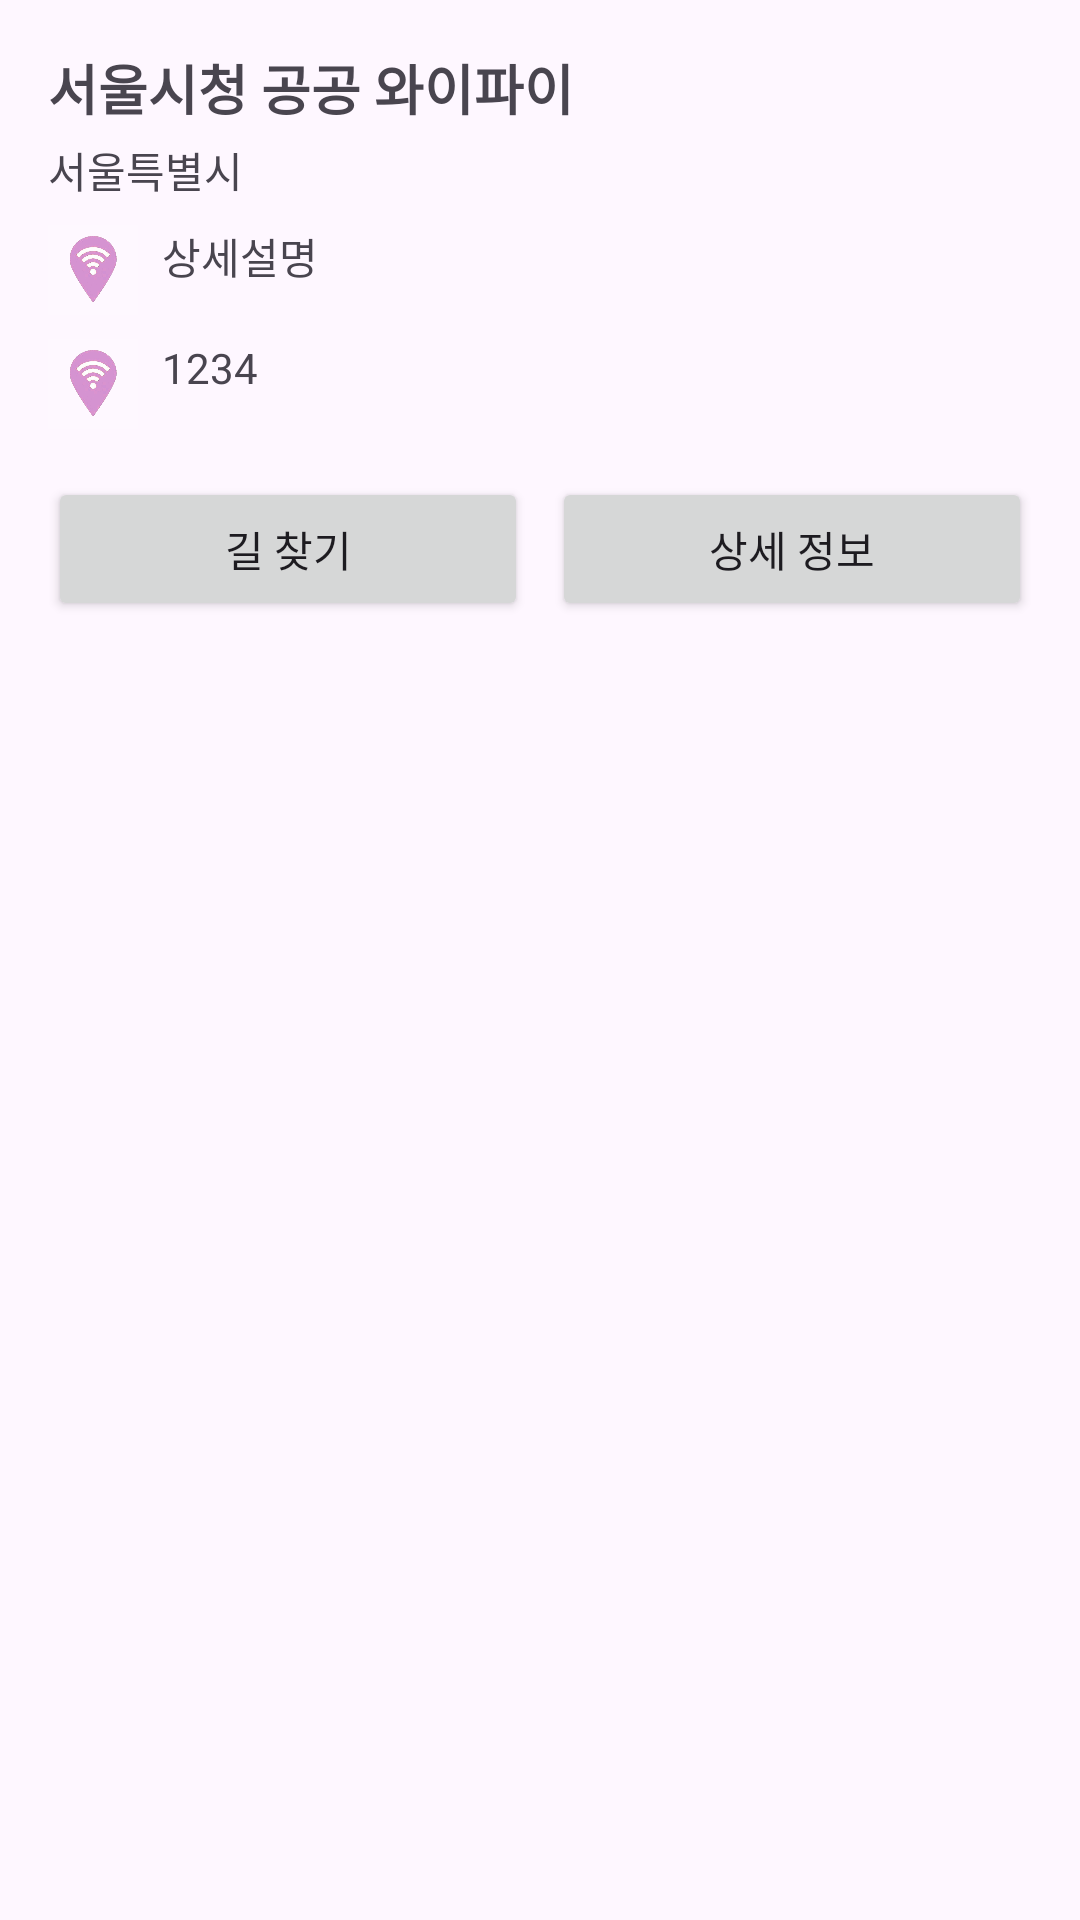

Locate icon controls on the screen. Image size 1080 × 1920, boxes as region(x1, y1, x2, y2).
wifi: region(70, 236, 117, 302), region(70, 350, 117, 416)
